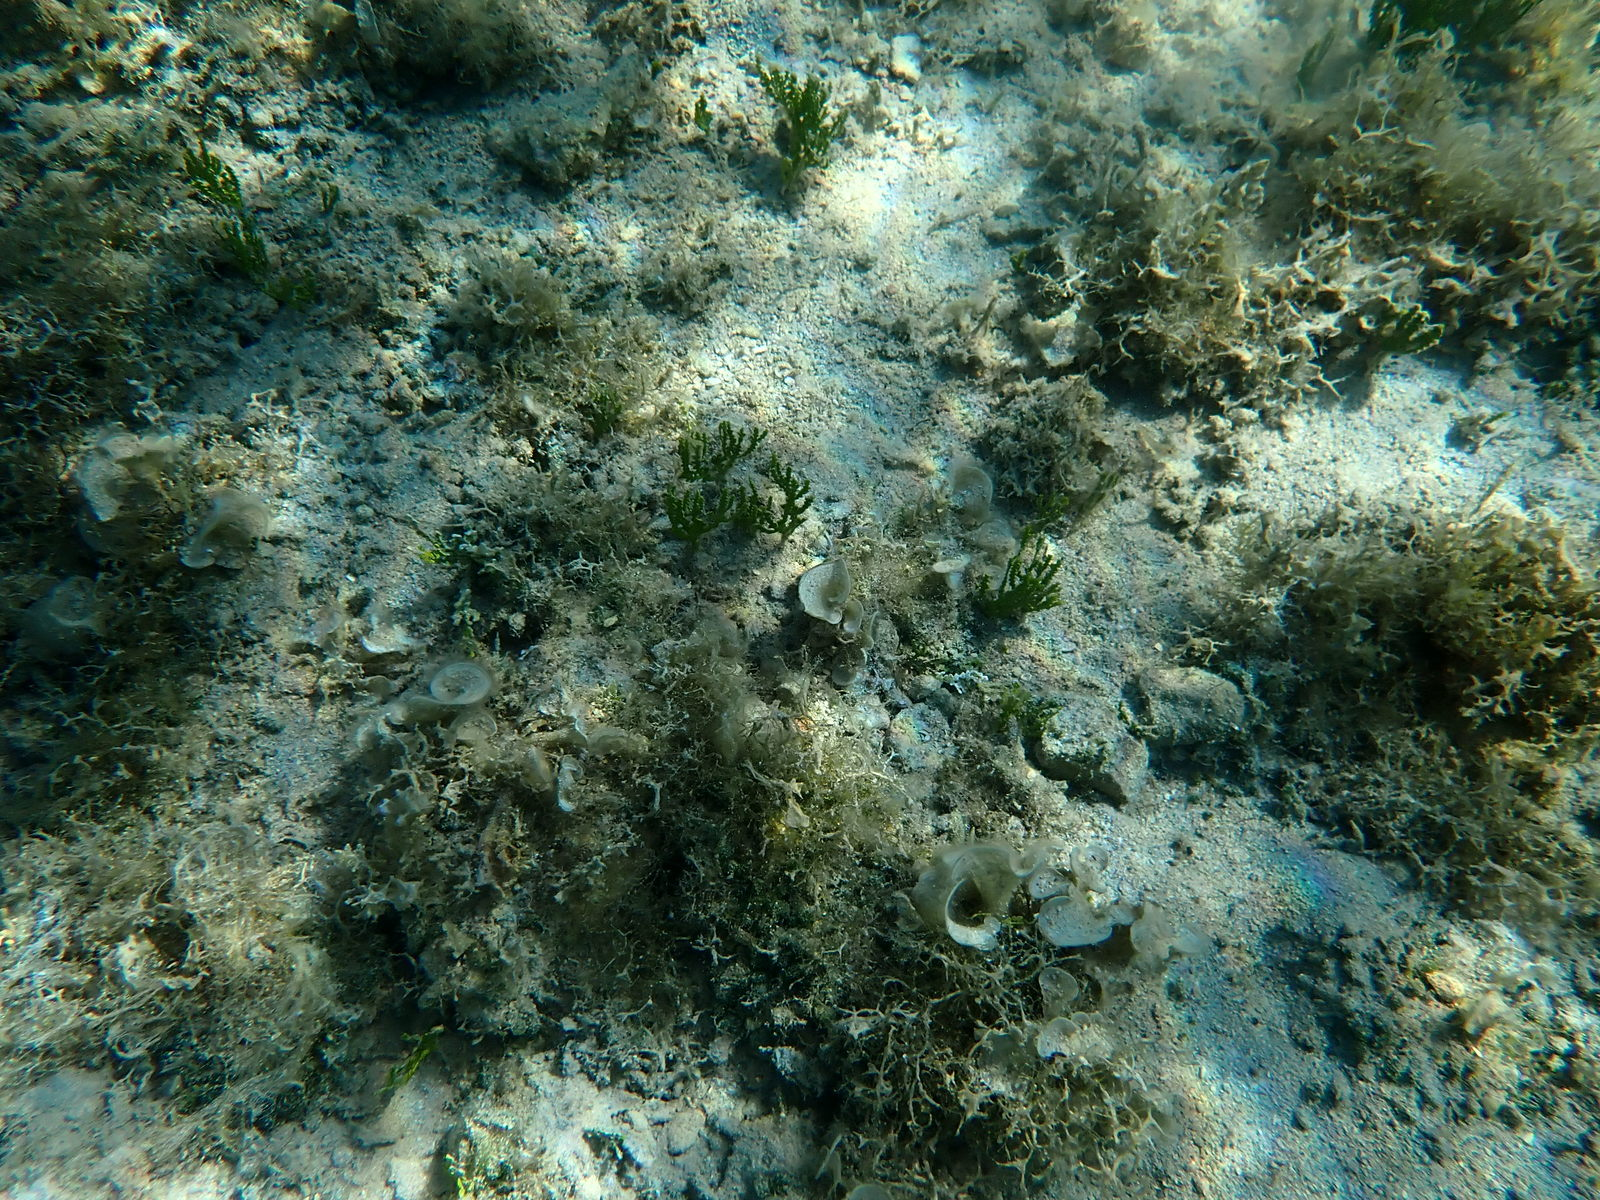halimeda: (758, 63, 849, 165), (981, 529, 1070, 616), (378, 1021, 445, 1103), (1369, 300, 1444, 373), (666, 485, 734, 539), (181, 149, 243, 207), (995, 686, 1058, 729), (1083, 469, 1121, 529), (716, 420, 769, 463), (214, 221, 263, 260), (737, 487, 774, 534), (769, 461, 809, 503), (677, 430, 711, 474), (774, 500, 805, 543), (1039, 493, 1071, 523), (694, 96, 713, 131), (319, 183, 339, 209), (418, 542, 443, 562), (455, 1177, 475, 1200), (1490, 407, 1511, 425)
